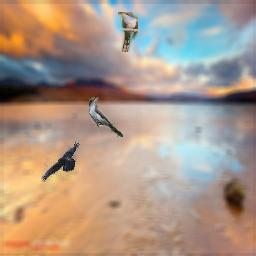Crow: (41, 142, 80, 182)
Cuckoo: (89, 97, 123, 137), (118, 12, 138, 52)
